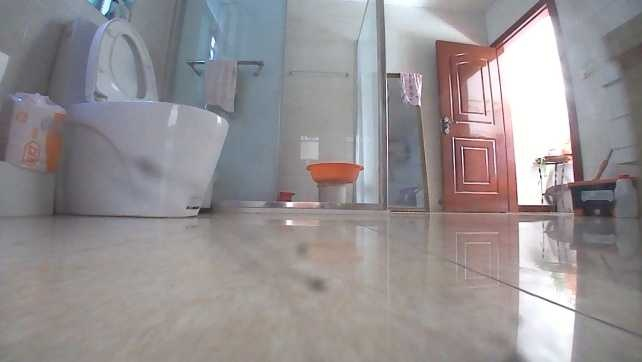bottle: (608, 172, 640, 218)
door_anno: (436, 39, 520, 214)
door_sill: (272, 200, 387, 215)
toilet: (46, 15, 228, 218)
